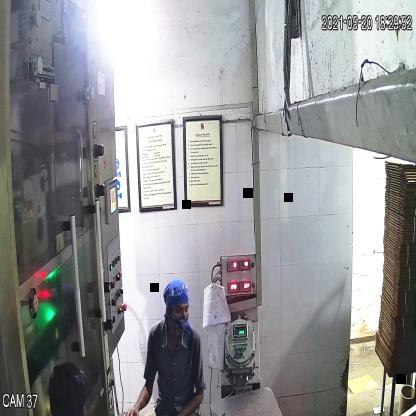no_goggles: (167, 299, 191, 320)
